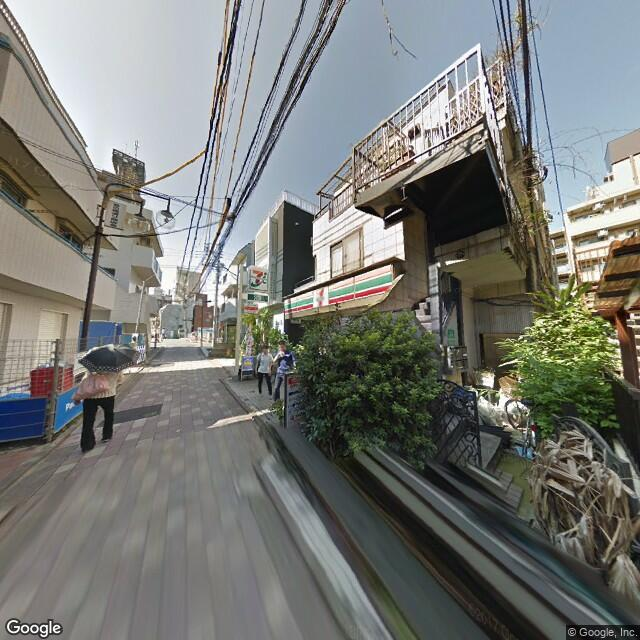7-eleven: (282, 258, 401, 321), (246, 262, 270, 293)
